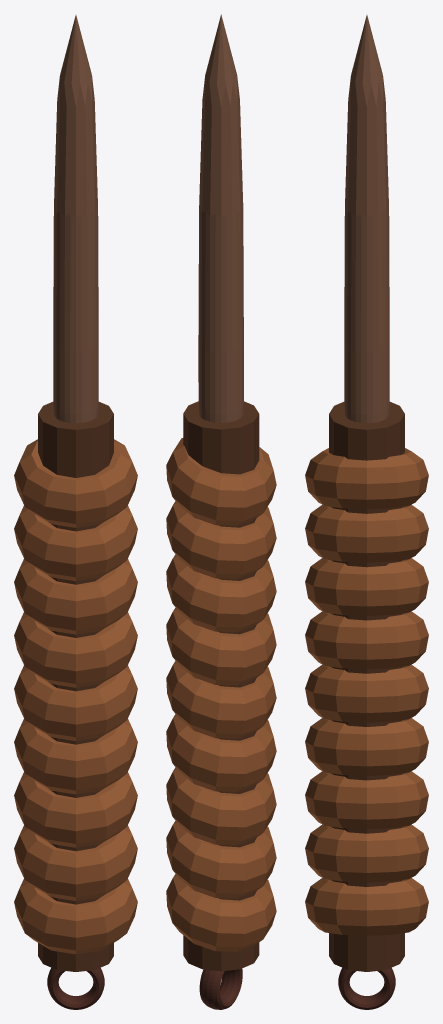
File: Wand 401.glb
3 renders of one model, left to right at view 1: azimuth 90°, elevation 25°; view 2: azimuth 150°, elevation 25°; view 3: azimuth 270°, elevation 25°, orthographic.
Visible parts, largest first — view 1: GeneratedWand; view 2: GeneratedWand; view 3: GeneratedWand.
Part boxes in pixels (<box>): GeneratedWand: <box>14,15,137,1009</box>; GeneratedWand: <box>166,14,276,1009</box>; GeneratedWand: <box>305,15,428,1009</box>.
Bounding box in the file's own units: 0.0497 × 0.5146 × 0.0581.
